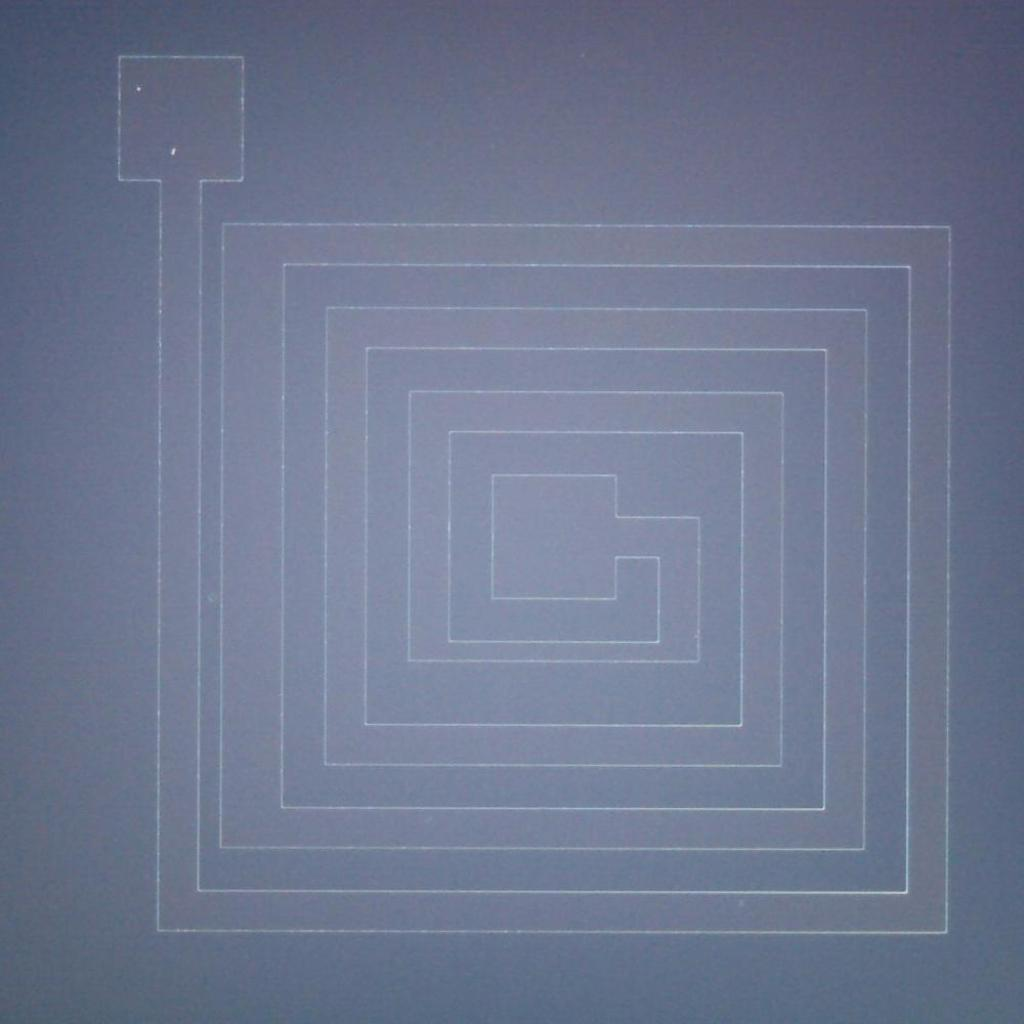dot: (159, 133, 190, 168), (124, 79, 155, 105)
fat circuit: (212, 212, 292, 860)
thin circuit: (400, 622, 712, 688)
